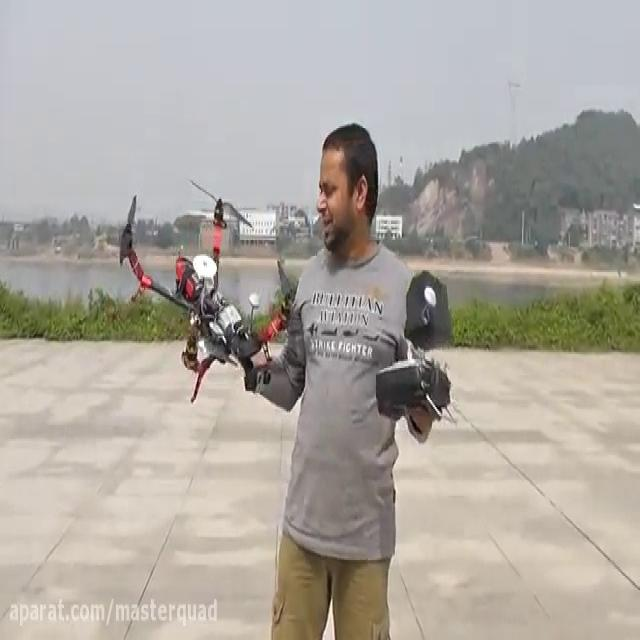drone: (115, 176, 301, 404)
